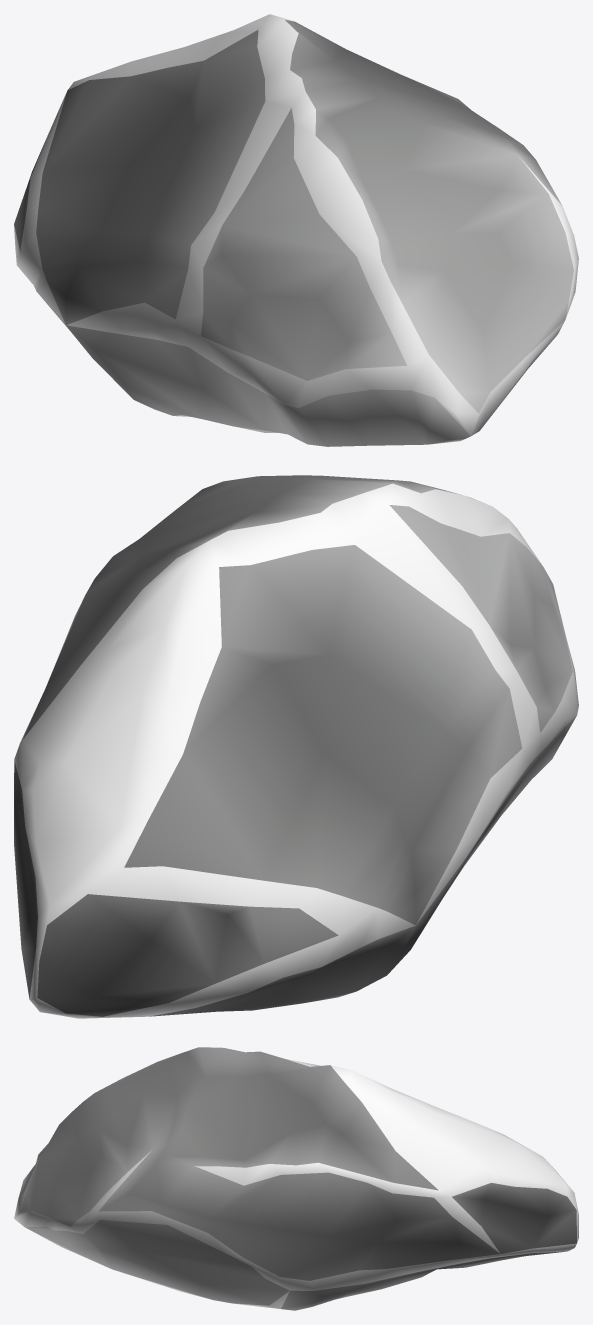
Rendered from SM_Rock_06.fbx.
The picture shows the model from 3 angles, top to bottom: view 1: azimuth 30°, elevation 25°; view 2: azimuth 150°, elevation 25°; view 3: azimuth 270°, elevation 25°; orthographic projection. The views are drawn at different scales.
Visible parts, largest first — view 1: SM_Rock_06; view 2: SM_Rock_06; view 3: SM_Rock_06.
Part boxes in pixels (x1,y1,x2,y2): SM_Rock_06: (14,14,578,446); SM_Rock_06: (14,475,578,1018); SM_Rock_06: (14,1047,578,1310).
Bounding box in the file's own units: 21.44 × 21.28 × 43.44.
